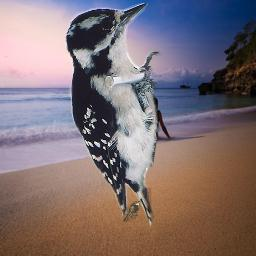Cuckoo: (123, 201, 141, 222)
Woodpecker: (65, 3, 164, 230)
